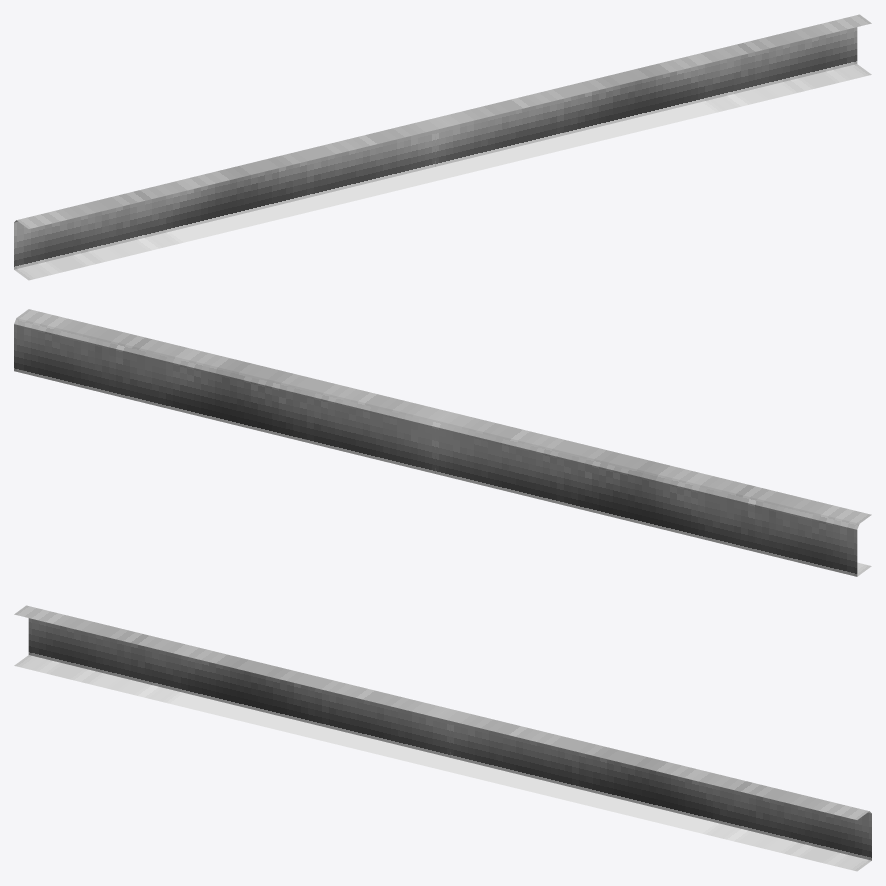
Rendered from wall-ceil.glb.
The picture shows the model from 3 angles, top to bottom: view 1: azimuth 30°, elevation 25°; view 2: azimuth 150°, elevation 25°; view 3: azimuth 330°, elevation 25°; orthographic projection.
Parts seen in each view (by area): view 1: Plane.003; view 2: Plane.003; view 3: Plane.003.
Boxes of the visible parts, x1,y1,x2,y2 form: Plane.003: (14, 14, 871, 280); Plane.003: (14, 309, 871, 576); Plane.003: (14, 605, 871, 871).
Bounding box in the file's own units: 32.68 × 1.9 × 0.9923.
Materials: 1 (1 with a texture image).
